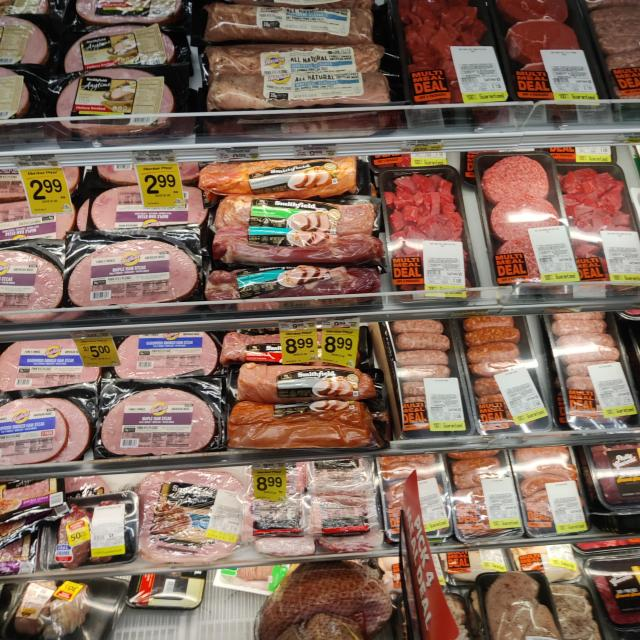Meat: (472, 150, 579, 292), (377, 165, 483, 303), (212, 192, 386, 266), (494, 0, 611, 109), (395, 0, 510, 108), (460, 310, 556, 437), (551, 162, 640, 294), (546, 310, 640, 433), (64, 230, 207, 308), (132, 465, 250, 558), (389, 312, 474, 440), (256, 561, 392, 640), (95, 380, 228, 460), (30, 70, 198, 131), (227, 401, 386, 453), (204, 72, 405, 111), (55, 22, 196, 74), (205, 0, 374, 43), (512, 444, 588, 539), (252, 456, 324, 556), (42, 496, 139, 570), (0, 388, 95, 461), (377, 451, 455, 538), (448, 451, 520, 545), (310, 460, 385, 550), (233, 362, 384, 404), (222, 322, 378, 362), (478, 570, 562, 640), (88, 182, 211, 228), (112, 332, 229, 380), (210, 42, 387, 73), (0, 338, 105, 390), (0, 244, 66, 320), (586, 554, 640, 631)
